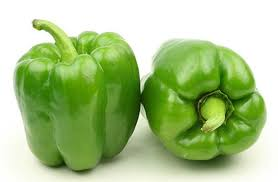Pepper: (11, 33, 142, 180), (141, 38, 268, 168)
